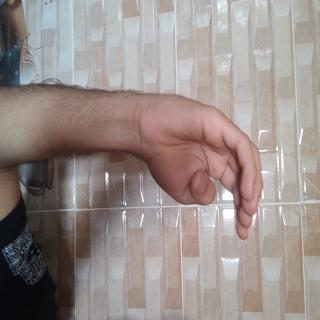JEEM: (62, 68, 182, 255)
